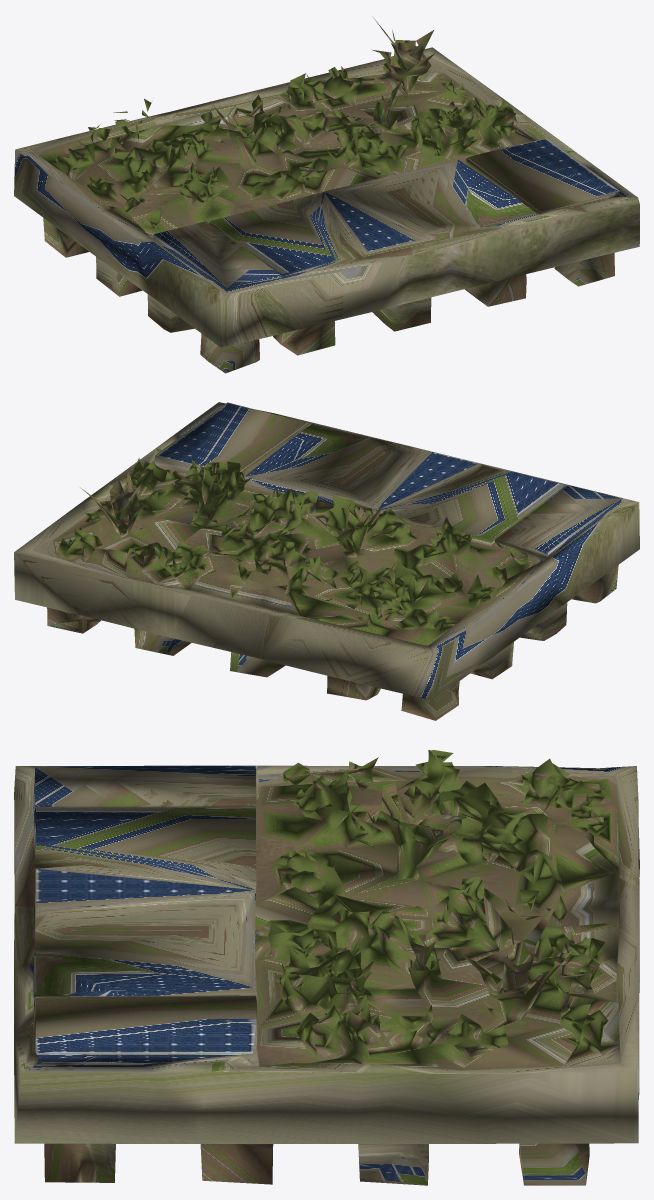
The model's file is pvplanter_lod1.glb.
3 renders of one model, top to bottom at view 1: azimuth 30°, elevation 25°; view 2: azimuth 150°, elevation 25°; view 3: azimuth 270°, elevation 25°, orthographic. The views are drawn at different scales.
Bounding box in the file's own units: 1.87 × 0.6644 × 1.61.
Materials: 1 (1 with a texture image).
